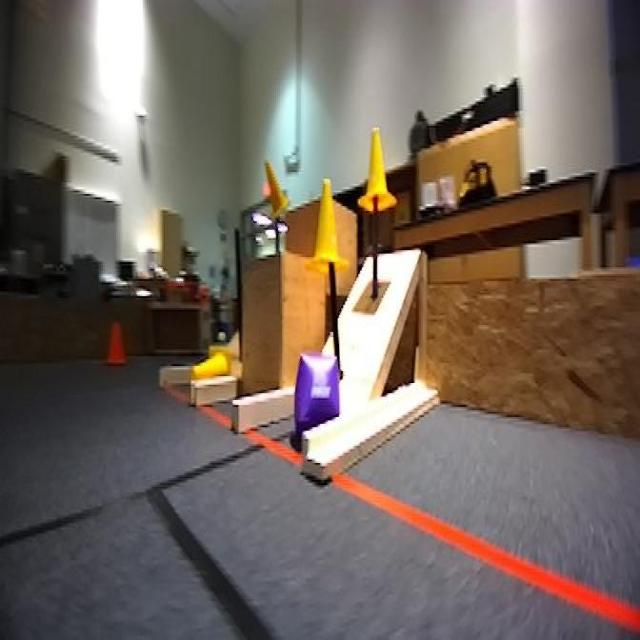frc_cone: (308, 177, 350, 281), (354, 122, 394, 218), (190, 340, 236, 383), (262, 158, 291, 226)
frc_cube: (289, 354, 341, 444)
